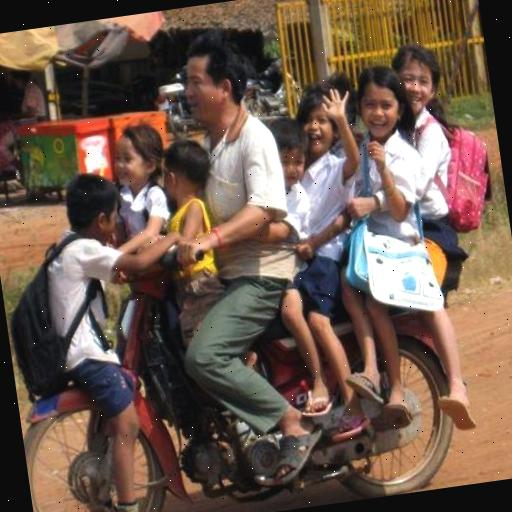no helmet: (154, 18, 274, 168)
triple riding: (0, 0, 493, 497)
